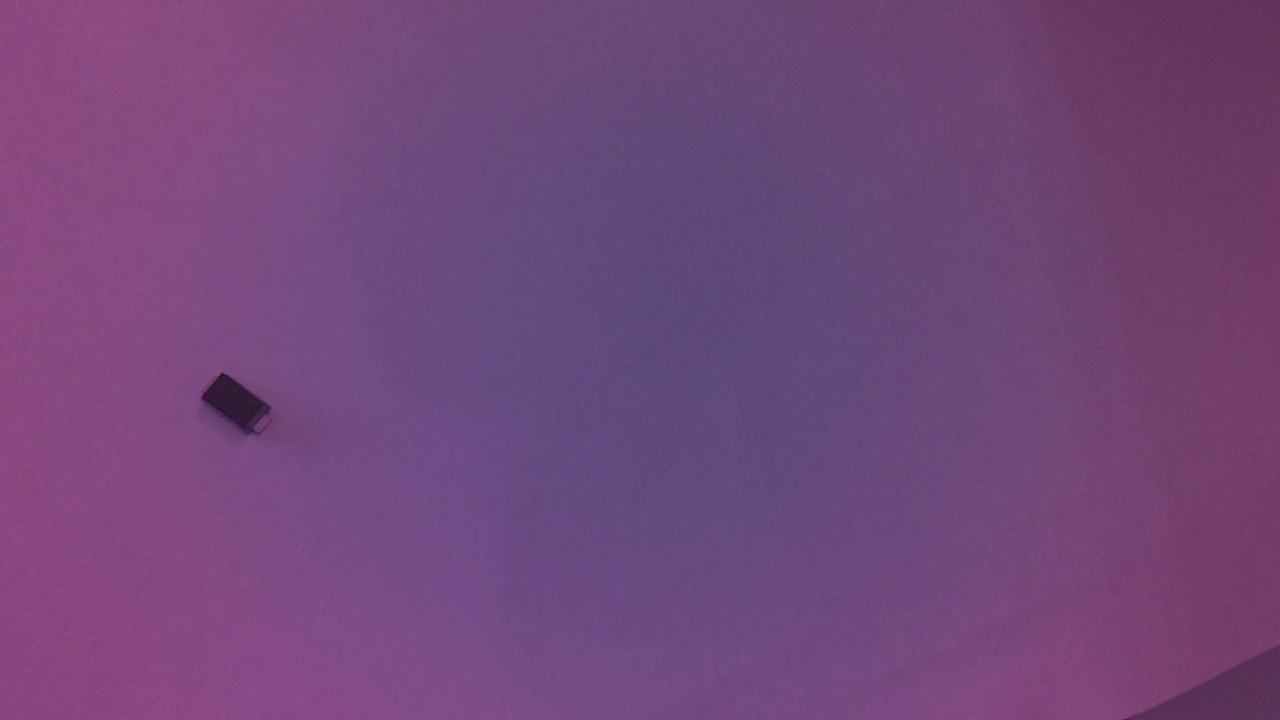Diode: (205, 372, 284, 447)
